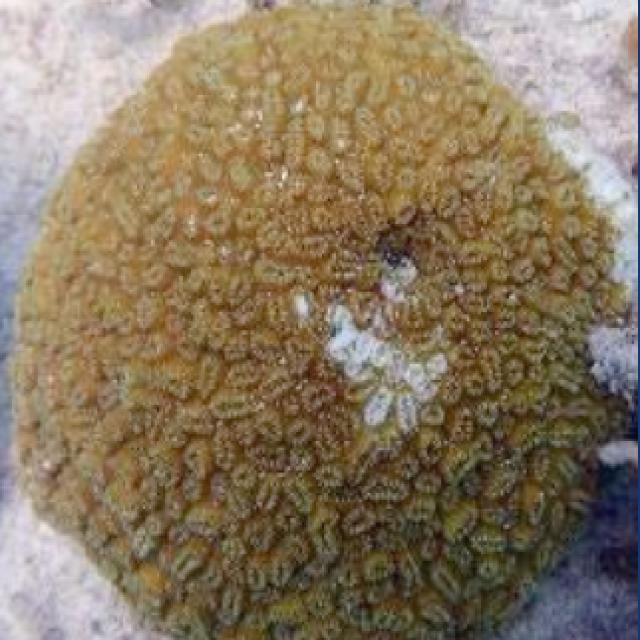Coral: (8, 0, 632, 640)
